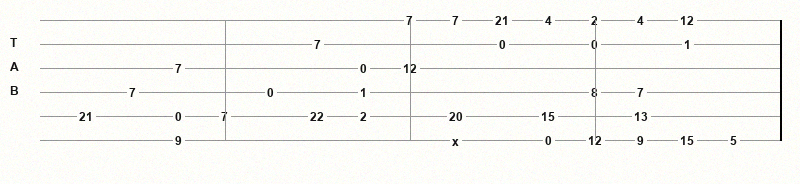0: (175, 110, 186, 123), (267, 86, 278, 99), (360, 62, 371, 75), (499, 38, 510, 51), (545, 134, 556, 147), (591, 38, 602, 51)
1: (360, 86, 371, 99), (684, 38, 695, 51)
12: (403, 62, 421, 75), (588, 134, 606, 147), (680, 14, 698, 27)
13: (634, 110, 652, 123)
15: (541, 110, 559, 123), (680, 134, 698, 147)
2: (360, 110, 371, 123), (591, 14, 602, 27)
20: (449, 110, 467, 123)
21: (79, 110, 97, 123), (495, 14, 513, 27)
22: (310, 110, 328, 123)
4: (545, 14, 556, 27), (637, 14, 648, 27)
5: (730, 134, 741, 147)
7: (129, 86, 140, 99), (175, 62, 186, 75), (221, 110, 232, 123), (314, 38, 325, 51), (406, 14, 417, 27), (452, 14, 463, 27), (637, 86, 648, 99)
8: (591, 86, 602, 99)
9: (175, 134, 186, 147), (637, 134, 648, 147)
x: (452, 135, 463, 146)
